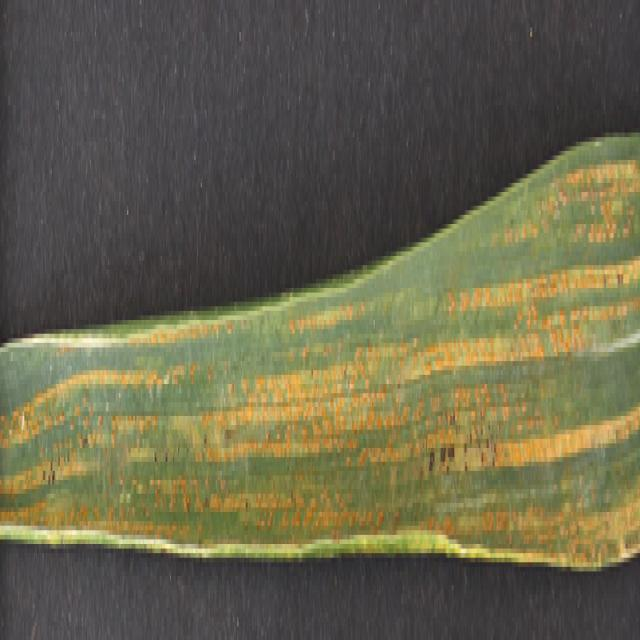leaf rust: (0, 169, 638, 544)
